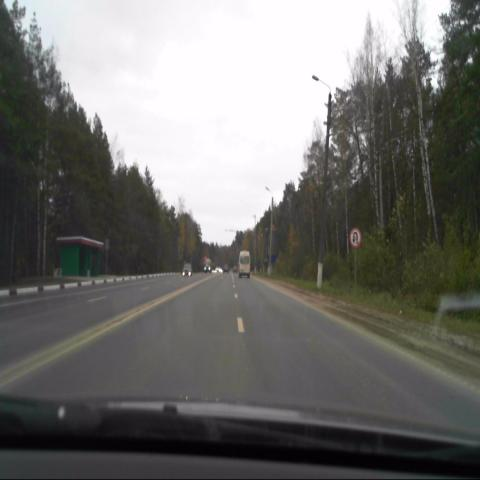3_19: (348, 227, 361, 248)
